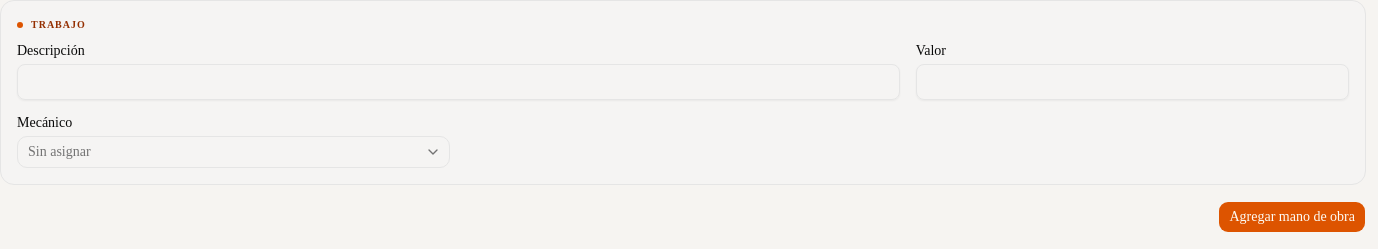
Test case: AgregarManoObraForm › lets a técnico be picked per línea, independent of the orden's own mecánico
Step 1. Click the dropdown named "Mecánico" → (59,152), box [17, 136, 450, 168]
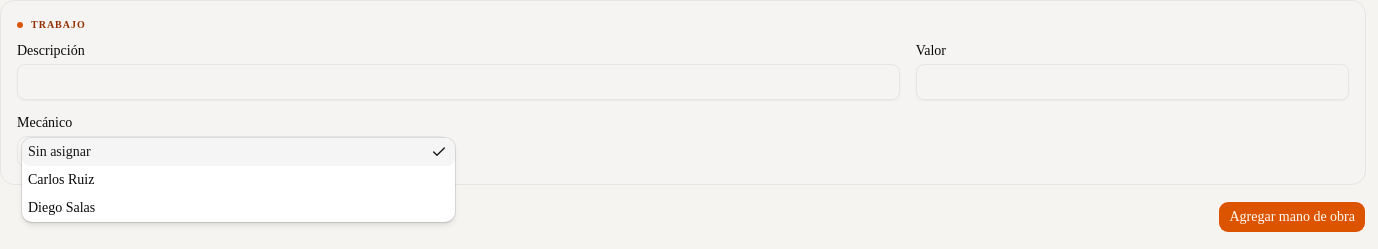
Step 2. Click the option "Diego Salas" → (62,208), box [28, 200, 95, 215]
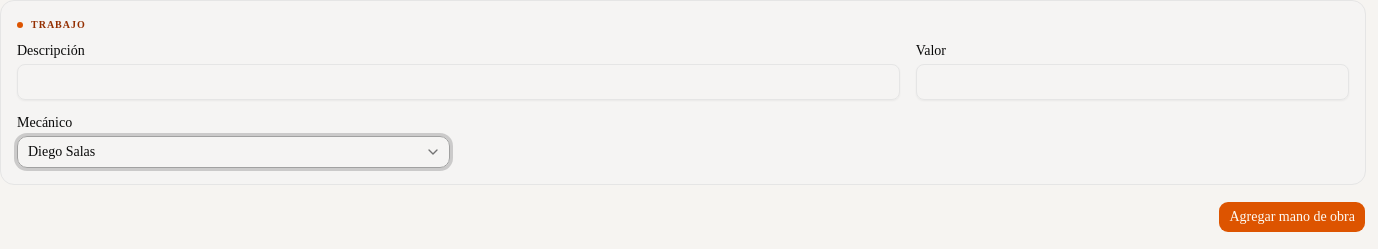
Expected: the dropdown named "Mecánico" shows "Diego Salas", [17, 136, 450, 168]
